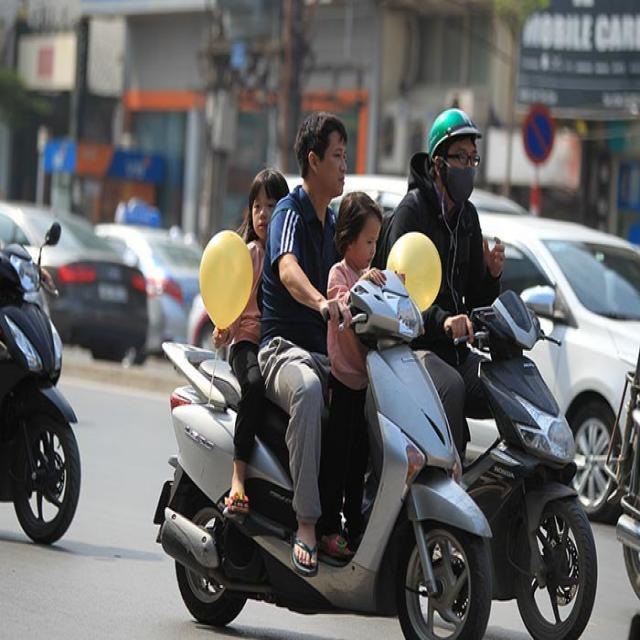Face and Hair: (291, 109, 361, 202)
